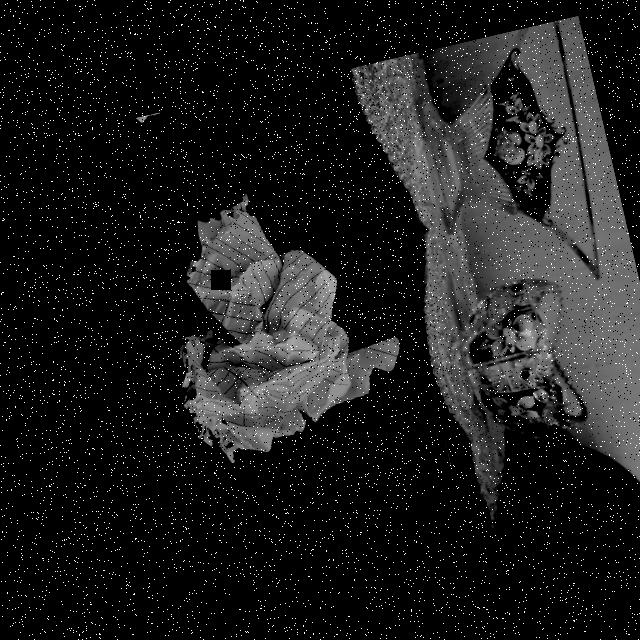scrap_paper: (142, 178, 400, 472)
